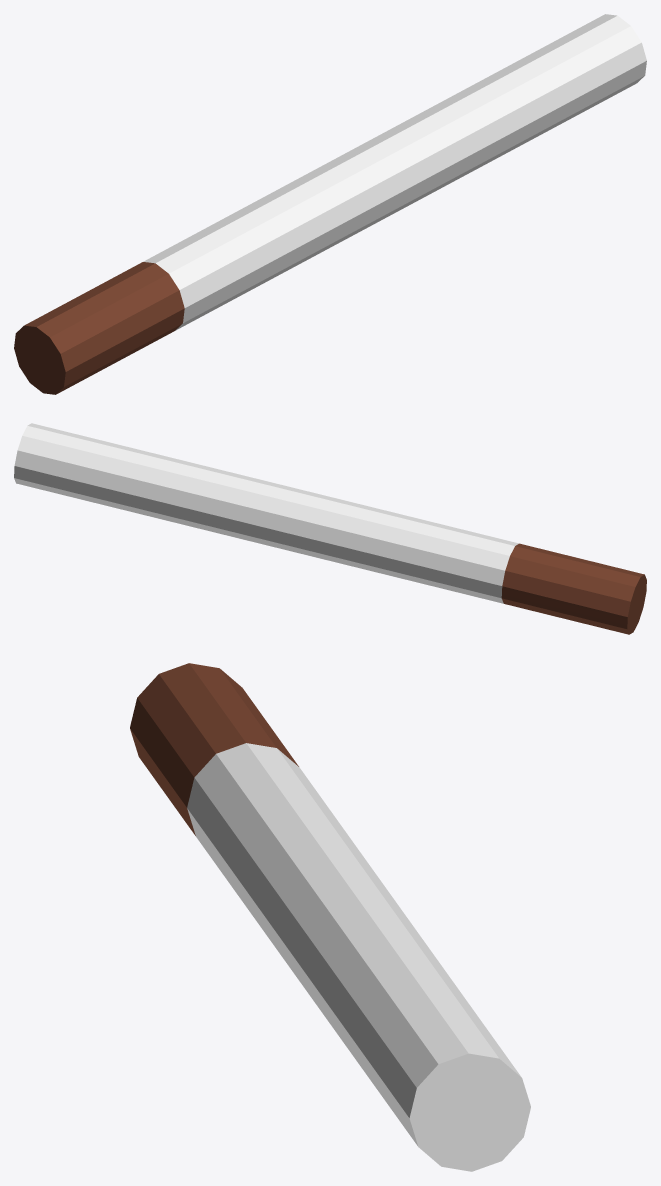
Rendered from cigarro.fbx.
3 views of the same model, one above another, from view 1: azimuth 30°, elevation 25°; view 2: azimuth 150°, elevation 25°; view 3: azimuth 270°, elevation 25° (orthographic). The views are drawn at different scales.
Parts seen in each view (by area): view 1: Cigarro; view 2: Cigarro; view 3: Cigarro.
Boxes of the visible parts, <box> form: Cigarro: <box>14,14,646,394</box>; Cigarro: <box>14,423,646,634</box>; Cigarro: <box>130,663,530,1171</box>.
Size of the model in its own units: 0.3057 by 0.0662 by 0.0955.
